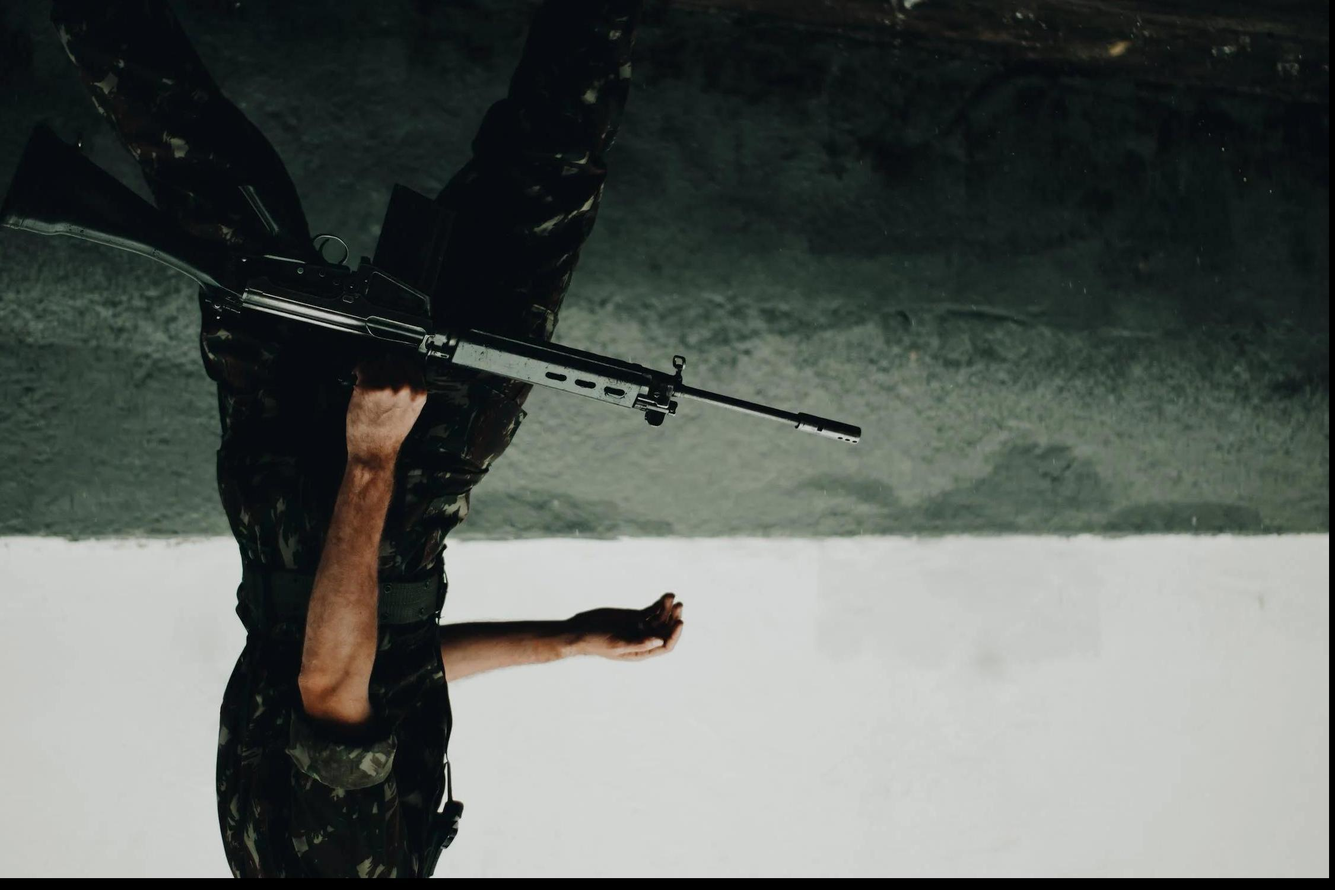larga: (0, 121, 865, 448)
